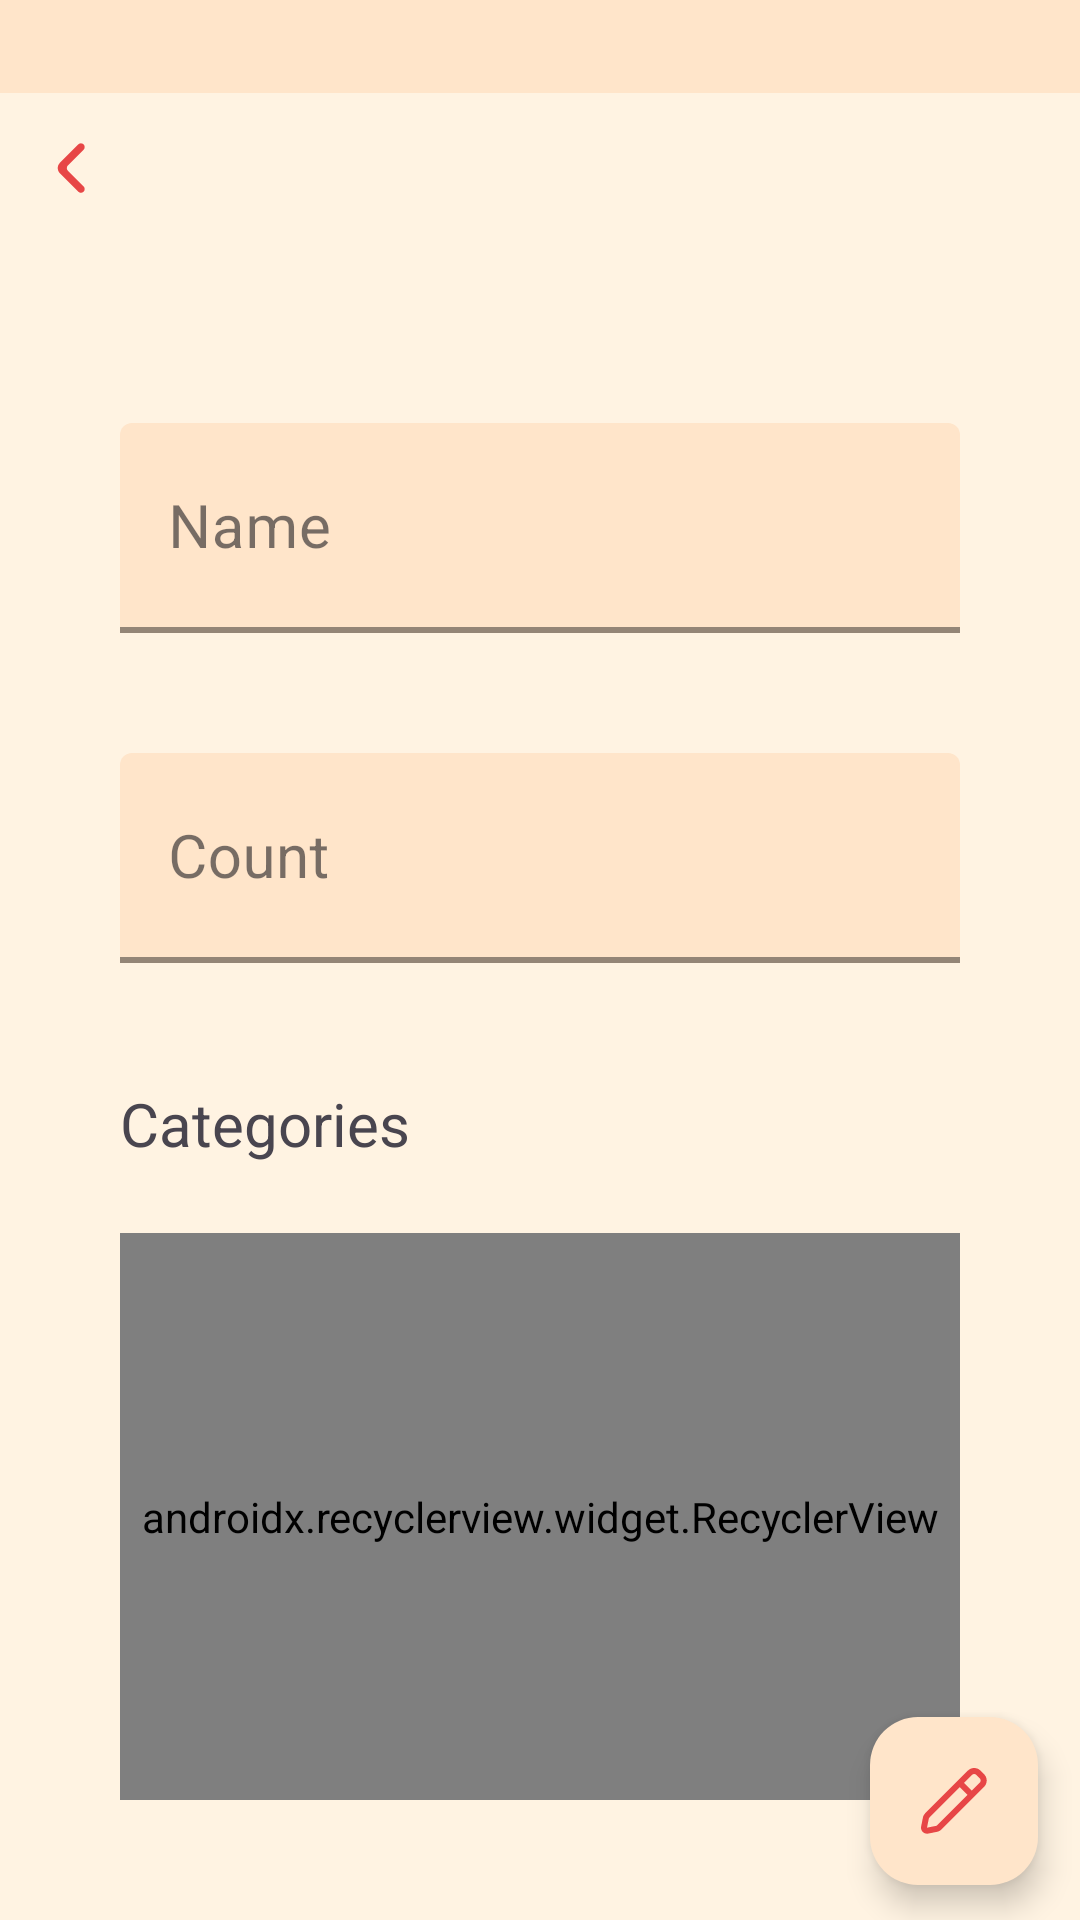

Point at icon controls on the screen. Image size 1080*1920, points as (x=x, y=y).
Back: (x=71, y=168)
Edit: (x=954, y=1801)
